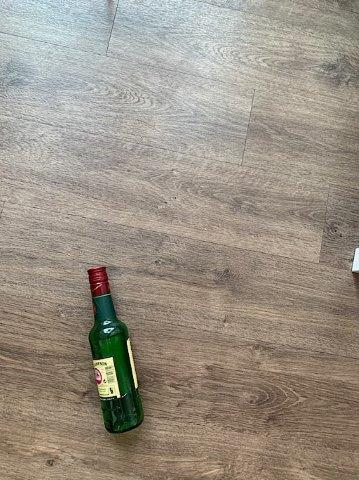botolkaca: (89, 266, 142, 431)
